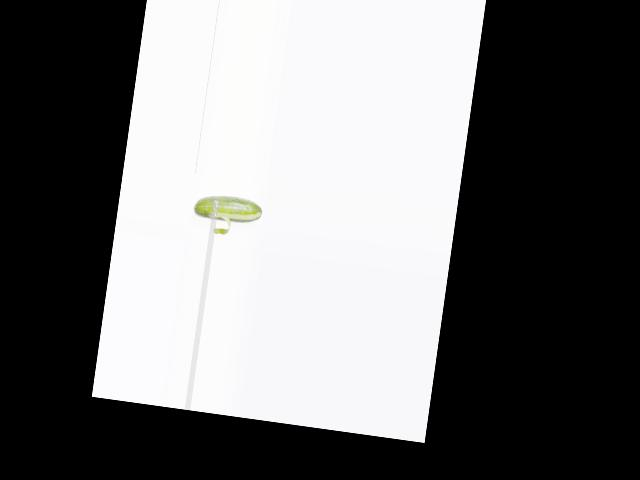cucumber: (192, 191, 263, 226)
